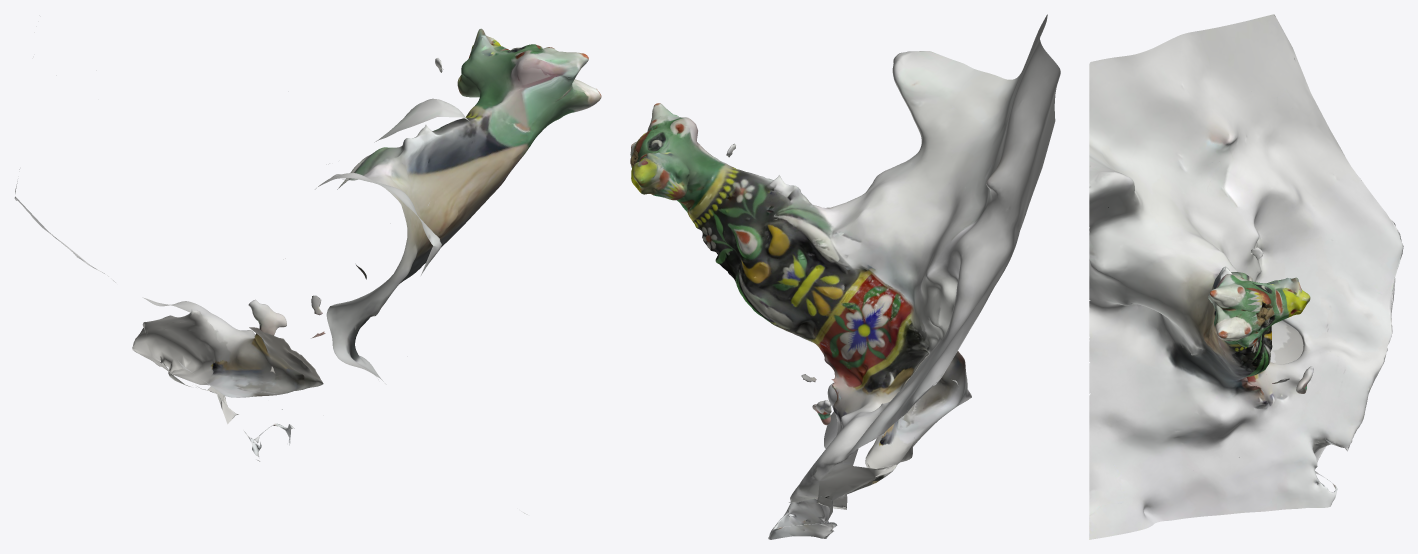
The picture shows the model from 3 angles, left to right: view 1: azimuth 30°, elevation 25°; view 2: azimuth 150°, elevation 25°; view 3: azimuth 270°, elevation 25°; orthographic projection. The views are drawn at different scales.
Size of the model in its own units: 1.2 by 1.16 by 0.8492.
Materials: 1 (1 with a texture image).
